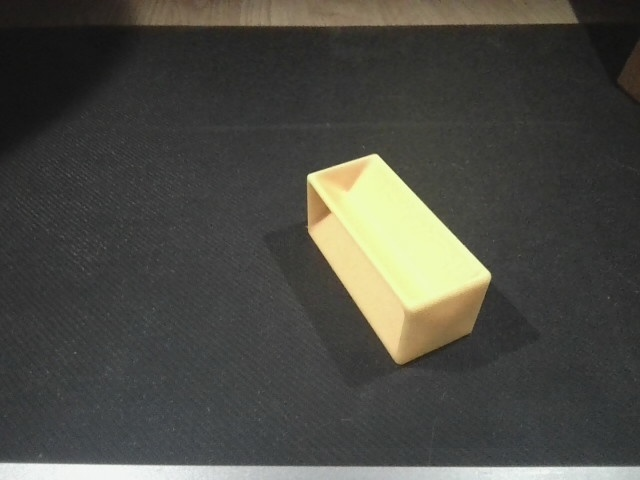YellowSample: (300, 149, 491, 367)
